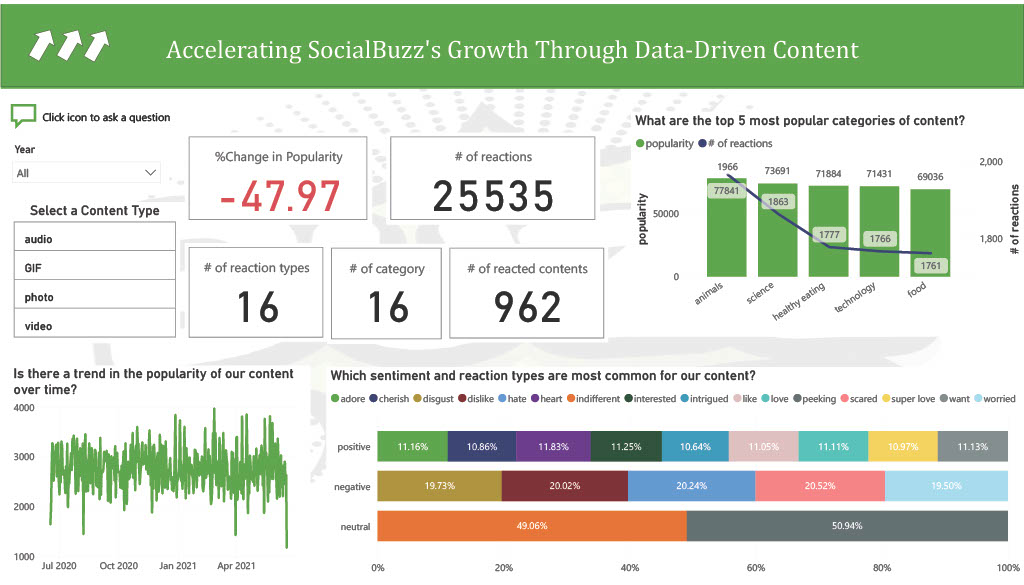

What the dashboard file says about the page in this screenshot:
{"tool":"powerbi","page":{"name":"SocialBuzz","canvas":[1280,720],"ordinal":0},"visuals":[{"type":"lineClusteredColumnComboChart","title":"What are the top 5 most popular categories of content?","fields":{"Category":["SocialBuzzCleanedDataset.Category"],"Y2":["CountNonNull(SocialBuzzCleanedDataset.ReactionType)"],"Y":["SocialBuzzCleanedDataset.popularity"]},"box":[789,134.5,491.3,281.3],"z":0},{"type":"advancedSlicerVisual","title":"Select a Content Type","fields":{"Values":["SocialBuzzCleanedDataset.Type"]},"box":[1.2,247,212.8,174.9],"z":1000},{"type":"hundredPercentStackedBarChart","title":"Which sentiment and reaction types are most common for our content?","fields":{"Category":["SocialBuzzCleanedDataset.Sentiment"],"Y":["CountNonNull(SocialBuzzCleanedDataset.Content_ID)"],"Series":["SocialBuzzCleanedDataset.ReactionType"]},"box":[391.3,452.4,889,267.8],"z":2000},{"type":"lineChart","title":"Is there a trend in the popularity of our content over time?","fields":{"Y":["Sum(SocialBuzzCleanedDataset.Score)"],"Category":["SocialBuzzCleanedDataset.ReactionDate.Variation.Date Hierarchy.Year","SocialBuzzCleanedDataset.ReactionDate.Variation.Date Hierarchy.Quarter","SocialBuzzCleanedDataset.ReactionDate.Variation.Date Hierarchy.Month","SocialBuzzCleanedDataset.ReactionDate.Variation.Date Hierarchy.Day"]},"box":[0,452.8,381.5,267.6],"z":3000},{"type":"cardVisual","fields":{"Data":["SocialBuzzCleanedDataset.# of contents"]},"box":[557.1,299.1,203.1,123.5],"z":4000},{"type":"cardVisual","fields":{"Data":["SocialBuzzCleanedDataset.# of category"]},"box":[408.9,299.1,148.2,124.9],"z":5000},{"type":"cardVisual","fields":{"Data":["SocialBuzzCleanedDataset.# of reaction types"]},"box":[230.5,297.8,178.4,123.5],"z":6000},{"type":"cardVisual","fields":{"Data":["SocialBuzzCleanedDataset.# of reactions"]},"box":[483,160.2,266.6,114.9],"z":7000},{"type":"cardVisual","fields":{"Data":["SocialBuzzCleanedDataset.%Change"]},"box":[231.1,160.2,233.6,114.9],"z":8000},{"type":"group","id":"g1","title":"Group 2","box":[1,-2,1279.1,106.4],"z":9000},{"type":"shape","box":[1,-2,1279.1,105.2],"z":9000,"group":"g1"},{"type":"shape","box":[35.5,0,34.2,102.7],"z":10000},{"type":"textbox","box":[1,0.5,1277.9,103.9],"z":10000,"group":"g1"},{"type":"shape","box":[69.7,0,34.2,102.7],"z":11000},{"type":"shape","box":[103.9,1.2,34.2,102.7],"z":12000},{"type":"actionButton","box":[7.3,119.8,206.7,40.4],"z":12001},{"type":"slicer","fields":{"Values":["SocialBuzzCleanedDataset.ReactionDate.Variation.Date Hierarchy.Year"]},"box":[0,168.8,206.7,68.5],"z":12002}]}

Visuals, with their boxes in screenshot pixels (x1, y1, x2, y2), scaled from the page's 1280x720 canvas onto the 1024x585 screenshot:
"What are the top 5 most popular categories of content?" lineClusteredColumnComboChart: 631/109/1023/338
"Select a Content Type" advancedSlicerVisual: 1/201/171/343
"Which sentiment and reaction types are most common for our content?" hundredPercentStackedBarChart: 313/368/1023/584
"Is there a trend in the popularity of our content over time?" lineChart: 0/368/305/584
cardVisual - SocialBuzzCleanedDataset.# of contents: 446/243/608/343
cardVisual - SocialBuzzCleanedDataset.# of category: 327/243/446/344
cardVisual - SocialBuzzCleanedDataset.# of reaction types: 184/242/327/342
cardVisual - SocialBuzzCleanedDataset.# of reactions: 386/130/600/224
cardVisual - SocialBuzzCleanedDataset.%Change: 185/130/372/224
"Group 2" group: 1/0/1023/85
shape: 1/0/1023/84
shape: 28/0/56/83
textbox: 1/0/1023/85
shape: 56/0/83/83
shape: 83/1/110/84
actionButton: 6/97/171/130
slicer - SocialBuzzCleanedDataset.ReactionDate.Variation.Date Hierarchy.Year: 0/137/165/193
